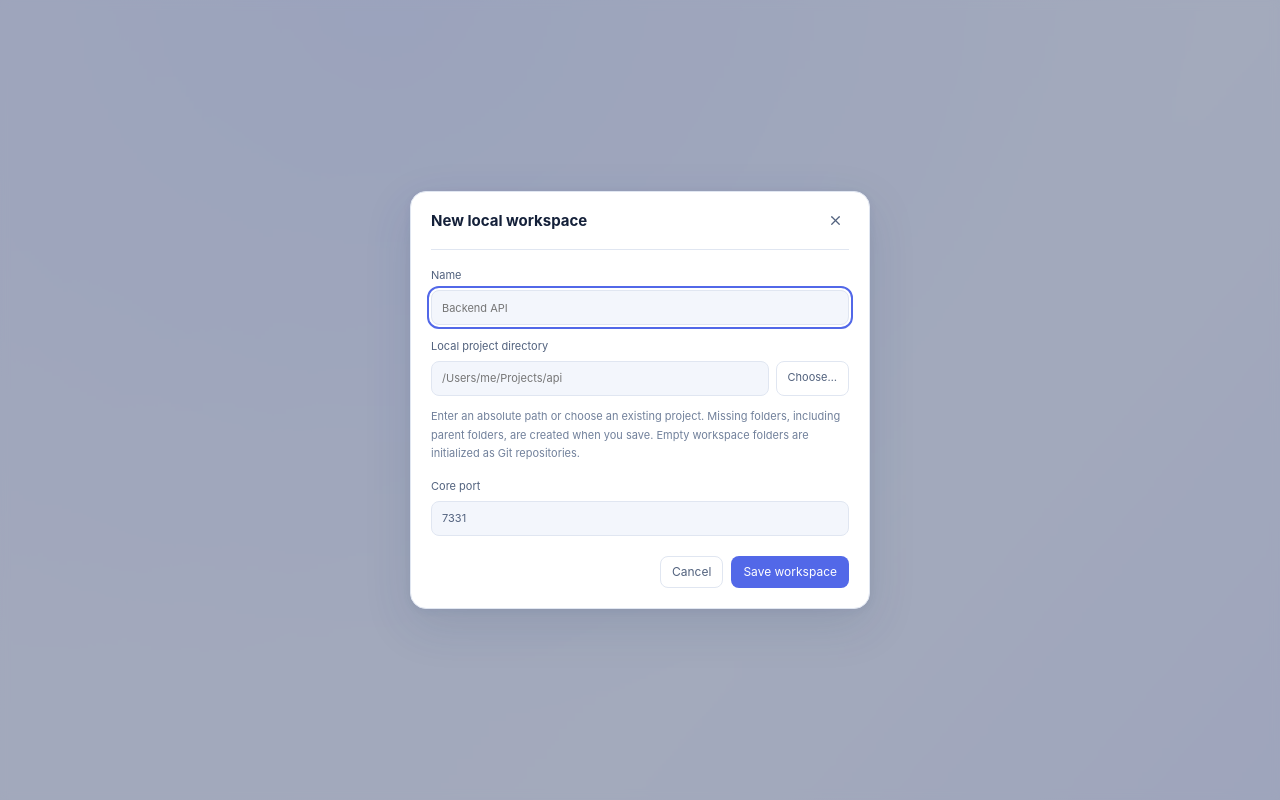
Test: Gateway dialogs › chooses a local project directory and derives its name
The width and height of the screenshot is (1280, 800).
Click the button with aria-label "Choose local project directory" at x=812, y=378, box [776,361,849,396]
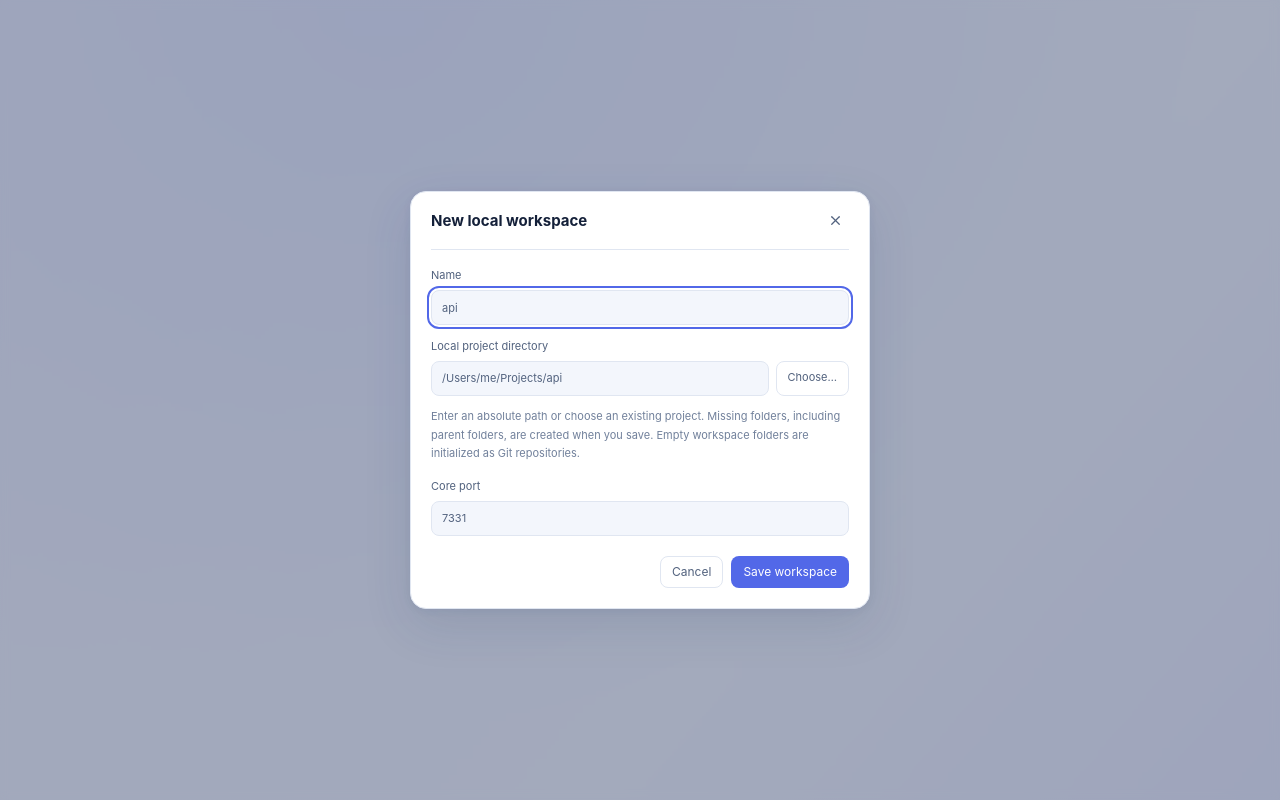
Expected: the field labelled "Local project directory" holds "/Users/me/Projects/api", [431,361,768,396]
Expected: the field labelled "Name" holds "api", [431,290,849,325]
